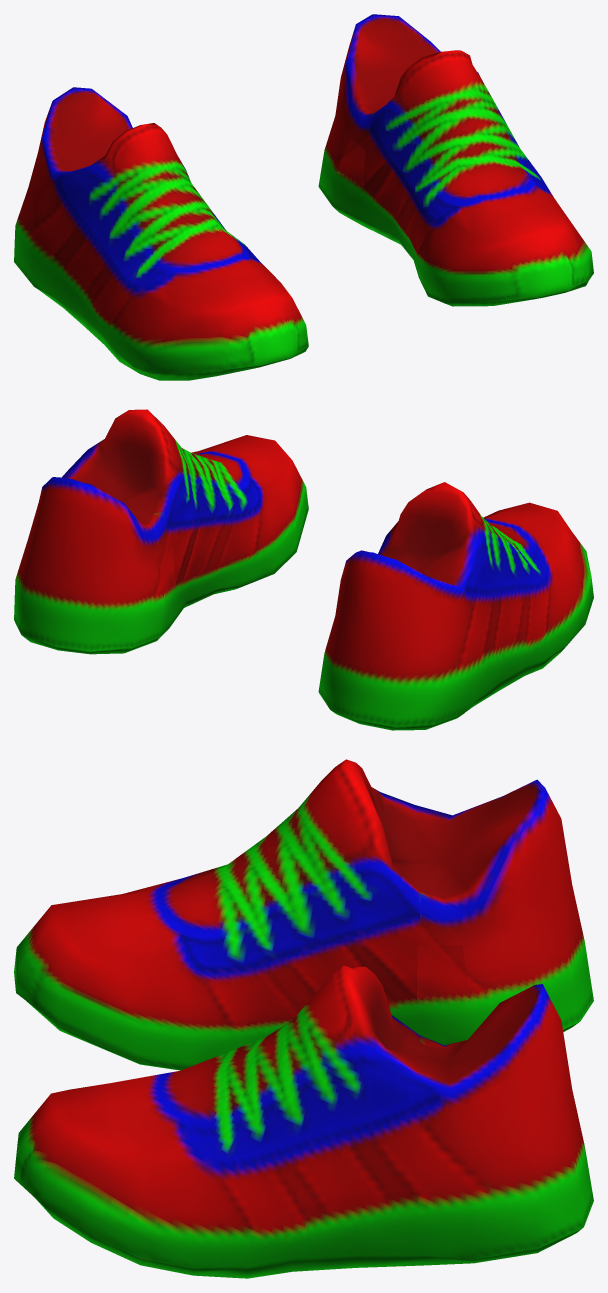
The model's file is Feet_StripedShoes.obj.
The picture shows the model from 3 angles, top to bottom: view 1: azimuth 30°, elevation 25°; view 2: azimuth 150°, elevation 25°; view 3: azimuth 270°, elevation 25°; orthographic projection. The views are drawn at different scales.
Visible parts, largest first — view 1: Feet_StripedShoes_0; view 2: Feet_StripedShoes_0; view 3: Feet_StripedShoes_0.
Part boxes in pixels (x1=…): Feet_StripedShoes_0: x1=14, y1=14, x2=593, y2=380; Feet_StripedShoes_0: x1=14, y1=409, x2=593, y2=730; Feet_StripedShoes_0: x1=14, y1=759, x2=593, y2=1278.
Size of the model in its own units: 0.3278 by 0.1433 by 0.2738.
Materials: 1 (1 with a texture image).
